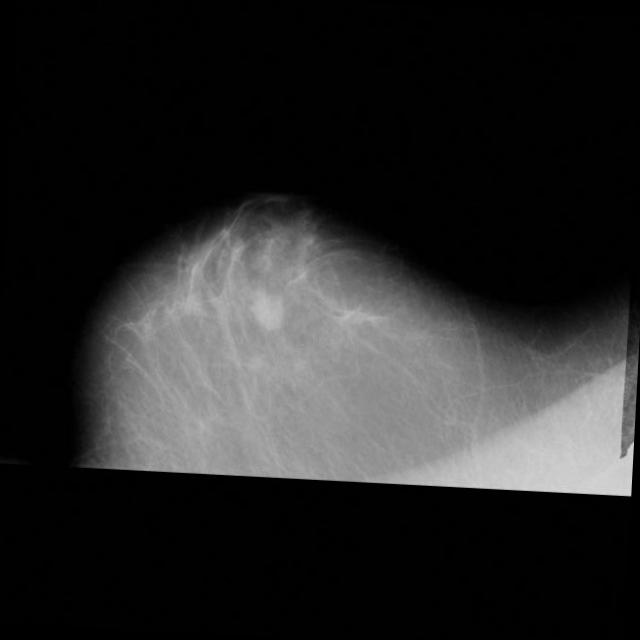CIRC: (245, 287, 288, 330)
